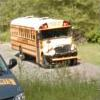Bus: (8, 12, 78, 68)
